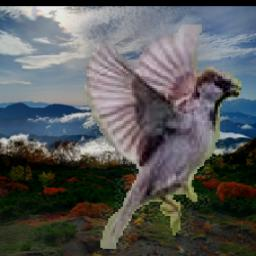Sparrow: (82, 26, 242, 250)
